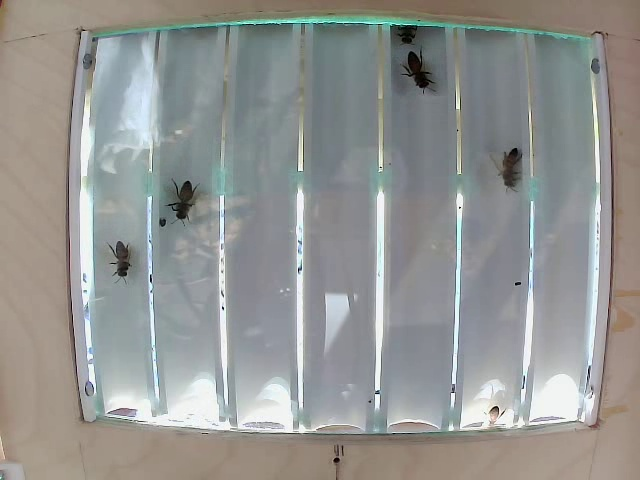bee: (386, 58, 438, 98), (157, 177, 202, 219), (103, 238, 145, 280), (491, 152, 532, 183)
